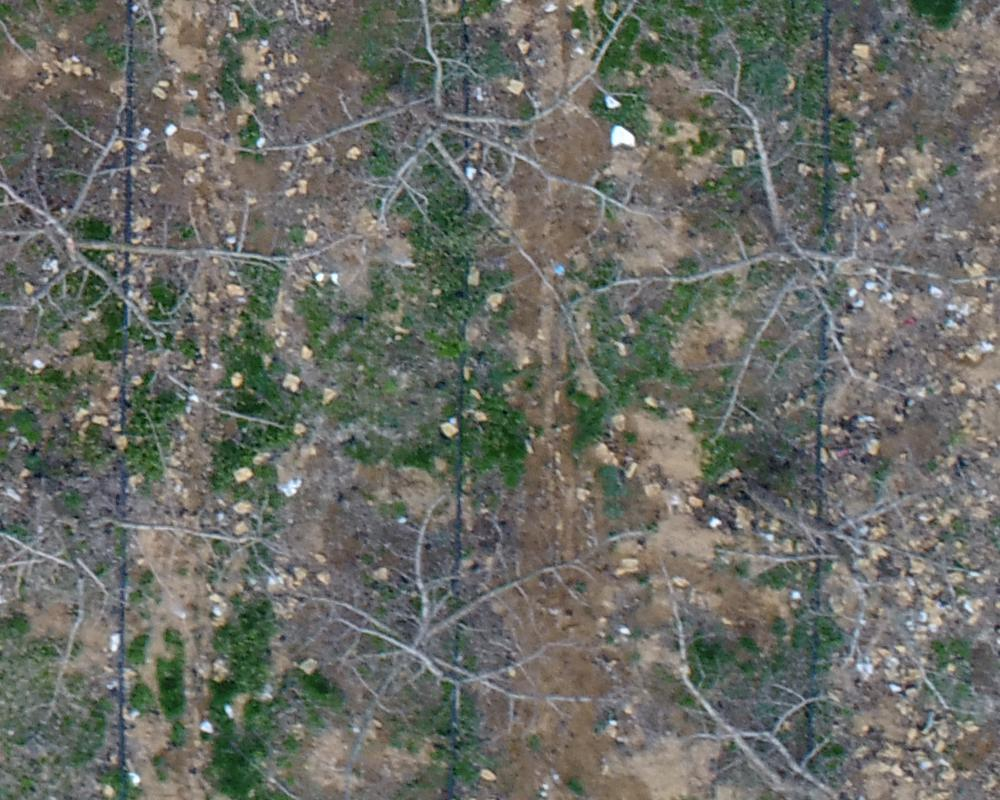apple: (660, 10, 990, 430), (213, 10, 658, 279), (10, 106, 335, 423), (296, 497, 643, 767), (649, 568, 922, 790), (10, 470, 238, 729)
